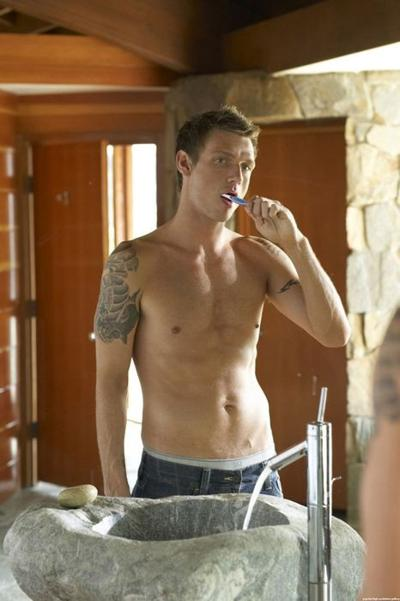person: (94, 112, 350, 506)
